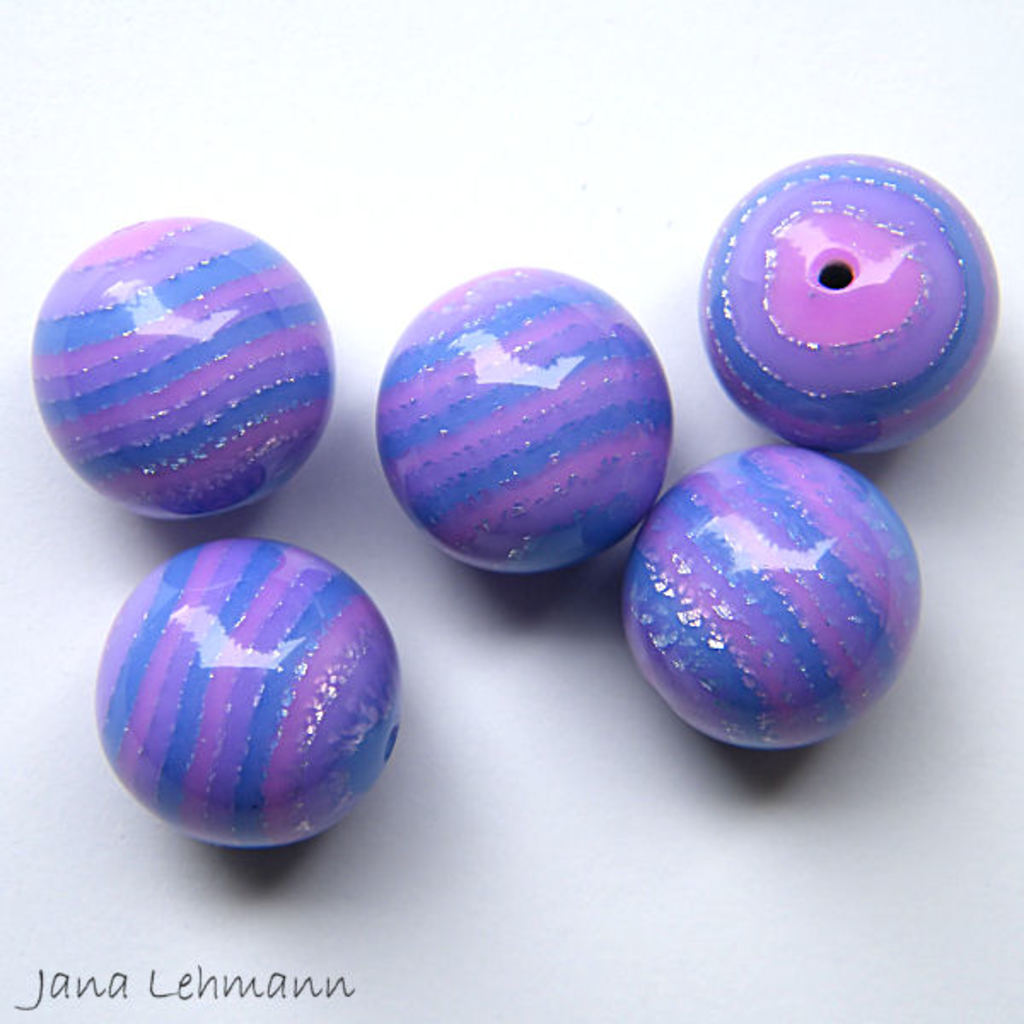Ball: (85, 541, 408, 852), (374, 265, 676, 579), (31, 213, 329, 519), (637, 437, 922, 751), (698, 148, 988, 452)
